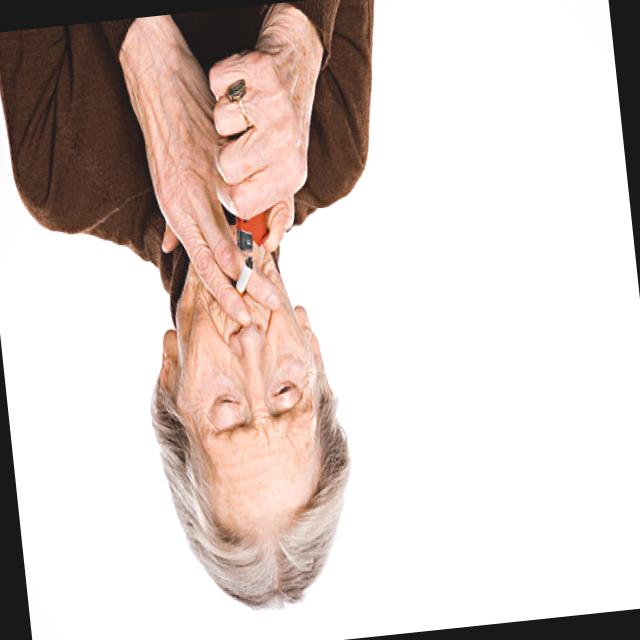smoke: (230, 256, 256, 299)
